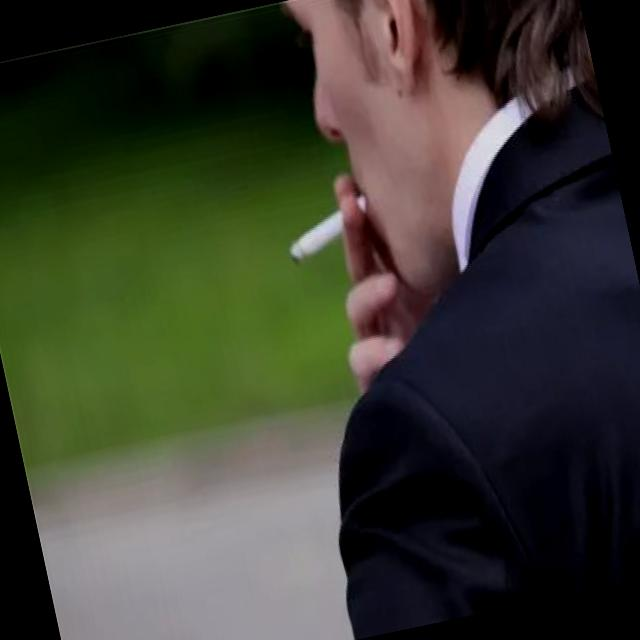cigarette: (274, 178, 380, 275)
